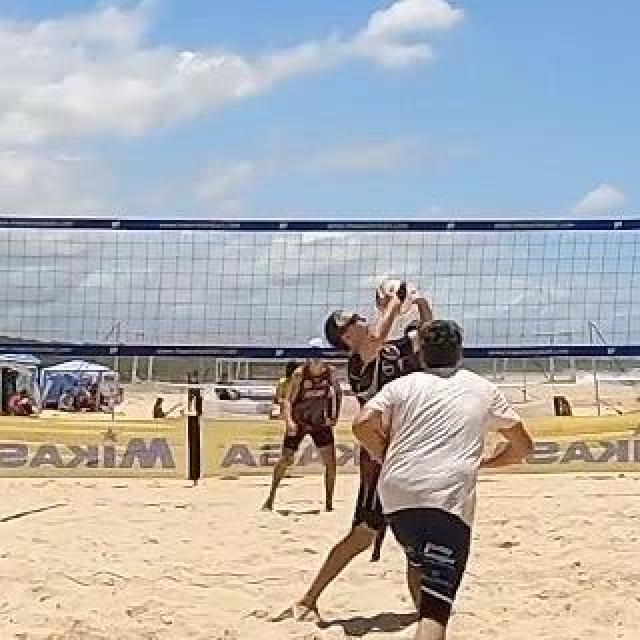volleyball: (375, 276, 415, 316)
